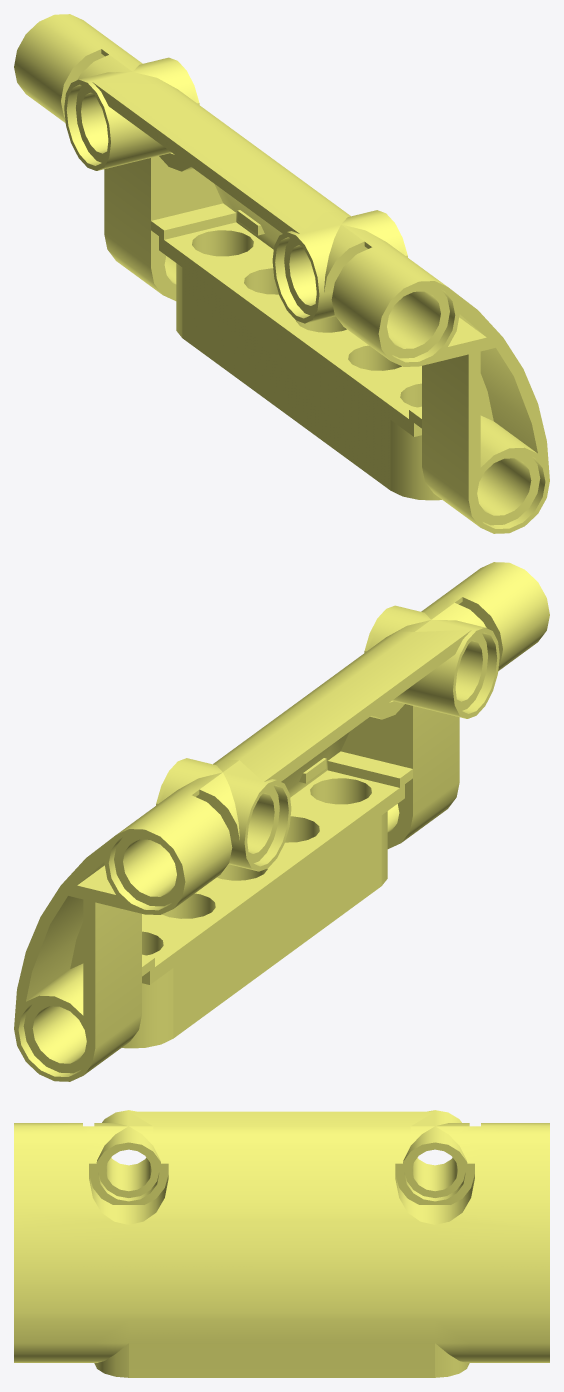
3 views of the same model, one above another, from view 1: azimuth 30°, elevation 25°; view 2: azimuth 150°, elevation 25°; view 3: azimuth 270°, elevation 25° (orthographic). The views are drawn at different scales.
Visible parts, largest first — view 1: 24119.dat; view 2: 24119.dat; view 3: 24119.dat.
Boxes of the visible parts, <box> form: 24119.dat: <box>14,14,549,533</box>; 24119.dat: <box>14,562,549,1081</box>; 24119.dat: <box>14,1110,549,1377</box>.
Size of the model in its own units: 0.0156 by 0.0236 by 0.056.
